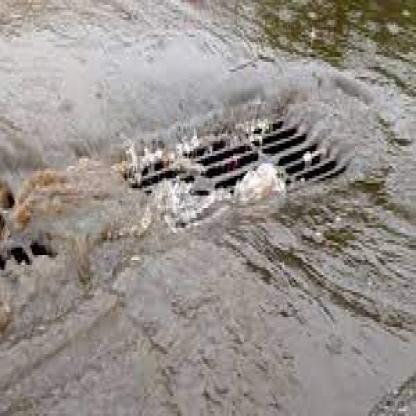open drainage-overflowing-: (6, 35, 370, 317)
